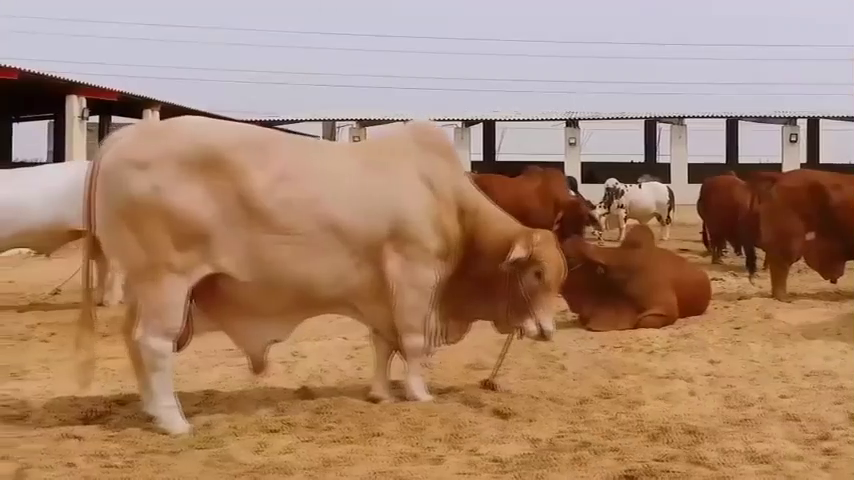bo: (80, 114, 570, 433), (2, 150, 119, 303), (557, 225, 714, 331), (739, 164, 850, 305), (464, 157, 595, 242), (691, 166, 759, 272), (590, 163, 675, 247)
